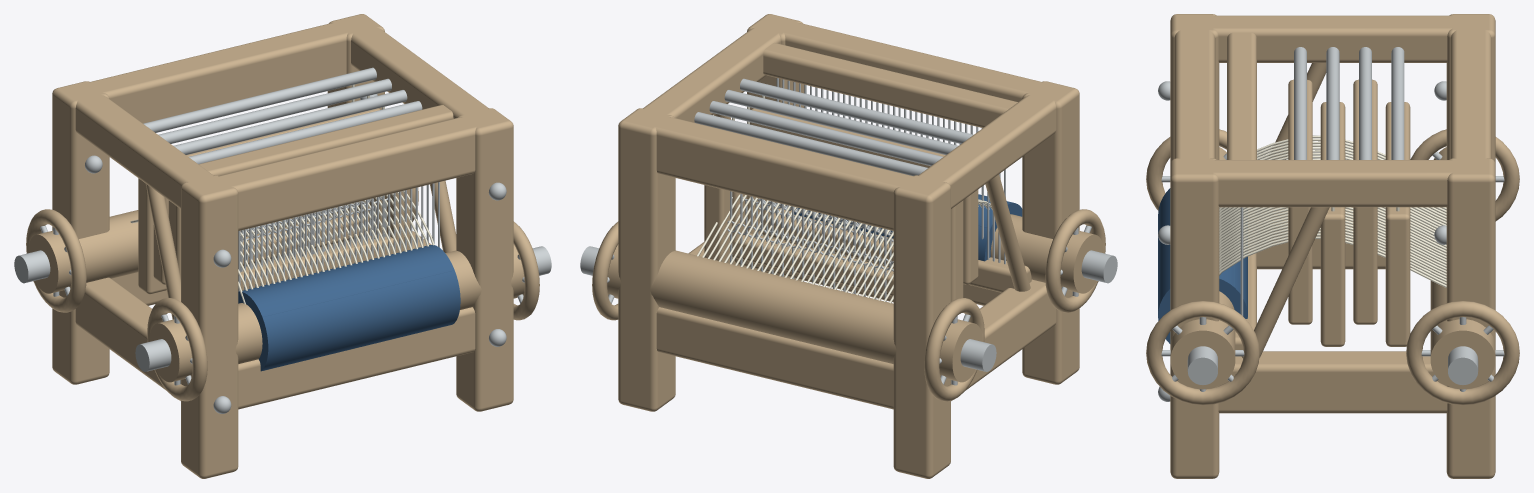
File: textile-weaving-and-dye-workshop-table-loom-33aabdbd__29533.glb
3 views of the same model, side by side, from view 1: azimuth 30°, elevation 25°; view 2: azimuth 150°, elevation 25°; view 3: azimuth 270°, elevation 25° (orthographic). The views are drawn at different scales.
Parts seen in each view (by area): view 1: table-loom; view 2: table-loom; view 3: table-loom.
Part boxes in pixels (box(x1,y1,x2,y2)): table-loom: box(14, 14, 551, 478); table-loom: box(580, 14, 1117, 478); table-loom: box(1146, 14, 1519, 478).
Size of the model in its own units: 0.92 by 0.62 by 0.69.
